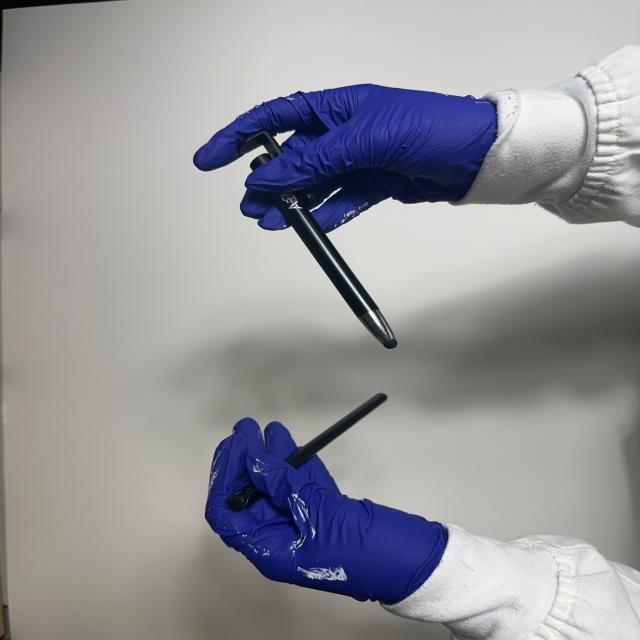gloves_contaminated: (193, 84, 497, 233), (205, 418, 448, 604)
